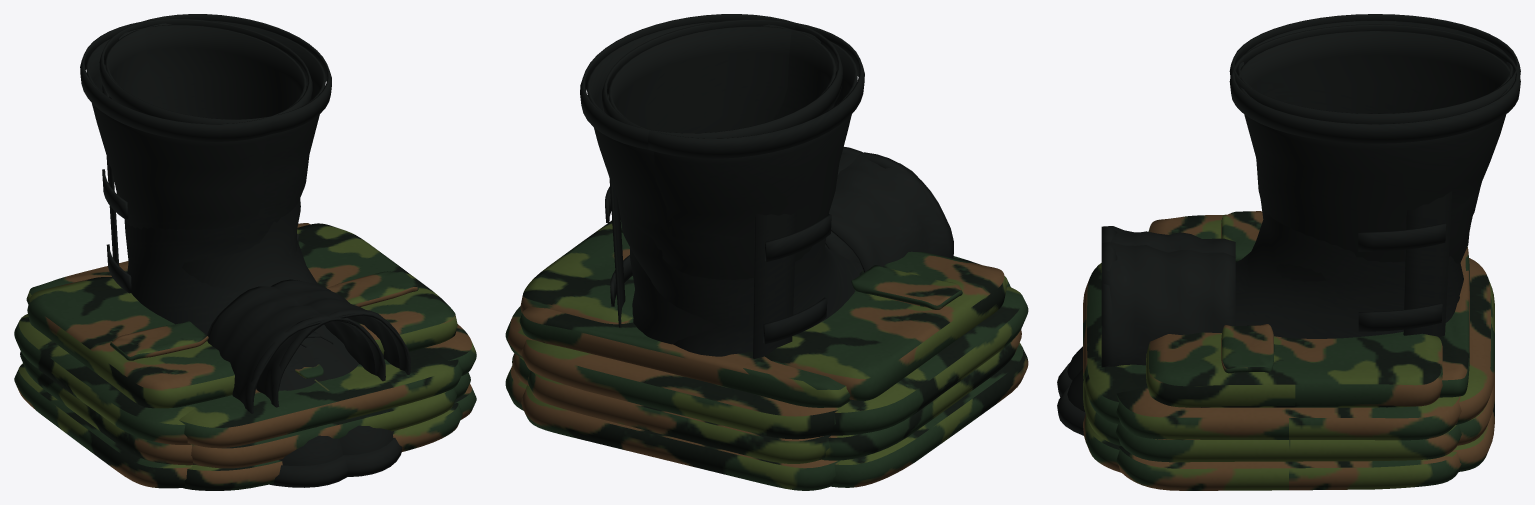
Rendered from ProtectiveClothing_Pickup.fbx.
3 renders of one model, left to right at view 1: azimuth 30°, elevation 25°; view 2: azimuth 150°, elevation 25°; view 3: azimuth 270°, elevation 25°, orthographic. The views are drawn at different scales.
Parts seen in each view (by area): view 1: Jacket_Pickup, Overboot_L_Pickup, Overboot_R_Pickup, Trousers_Pickup, Glove_L_Pickup, Glove_R_Pickup; view 2: Overboot_L_Pickup, Jacket_Pickup, Trousers_Pickup, Overboot_R_Pickup, Glove_L_Pickup, Glove_R_Pickup; view 3: Jacket_Pickup, Overboot_R_Pickup, Overboot_L_Pickup, Trousers_Pickup, Glove_R_Pickup, Glove_L_Pickup.
Part boxes in pixels (x1=…): Jacket_Pickup: x1=14, y1=223, x2=476, y2=488; Overboot_L_Pickup: x1=80, y1=18, x2=402, y2=476; Overboot_R_Pickup: x1=99, y1=14, x2=347, y2=487; Trousers_Pickup: x1=26, y1=223, x2=462, y2=490; Glove_L_Pickup: x1=207, y1=286, x2=385, y2=413; Glove_R_Pickup: x1=256, y1=279, x2=410, y2=407; Overboot_L_Pickup: x1=602, y1=19, x2=864, y2=344; Jacket_Pickup: x1=505, y1=220, x2=1028, y2=487; Trousers_Pickup: x1=519, y1=256, x2=1010, y2=490; Overboot_R_Pickup: x1=580, y1=14, x2=862, y2=358; Glove_L_Pickup: x1=825, y1=152, x2=953, y2=272; Glove_R_Pickup: x1=825, y1=147, x2=862, y2=263; Jacket_Pickup: x1=1115, y1=211, x2=1461, y2=490; Overboot_R_Pickup: x1=1057, y1=24, x2=1520, y2=397; Overboot_L_Pickup: x1=1057, y1=14, x2=1520, y2=435; Trousers_Pickup: x1=1083, y1=247, x2=1494, y2=472; Glove_R_Pickup: x1=1101, y1=242, x2=1235, y2=367; Glove_L_Pickup: x1=1101, y1=226, x2=1235, y2=256.
Bounding box in the file's own units: 0.34 × 0.287 × 0.36.
Materials: 1 (1 with a texture image).
